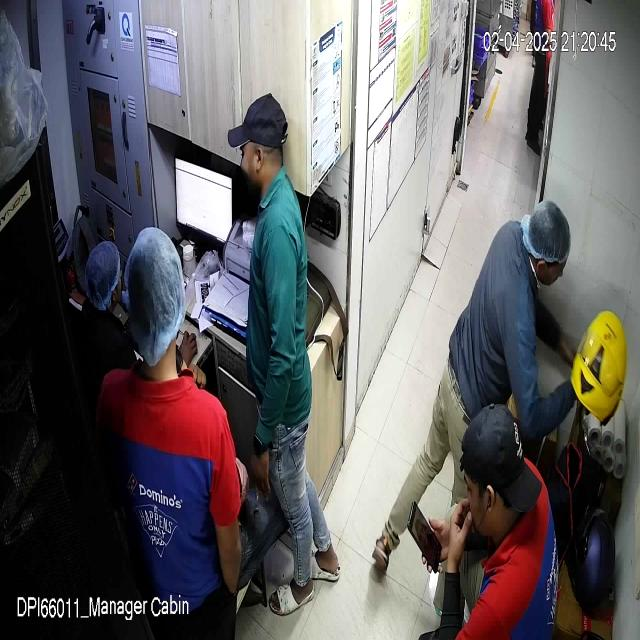helmet: (570, 311, 628, 425)
no_helmet: (460, 402, 542, 549), (123, 226, 186, 382), (227, 93, 288, 201), (521, 200, 571, 285), (84, 241, 121, 314)
